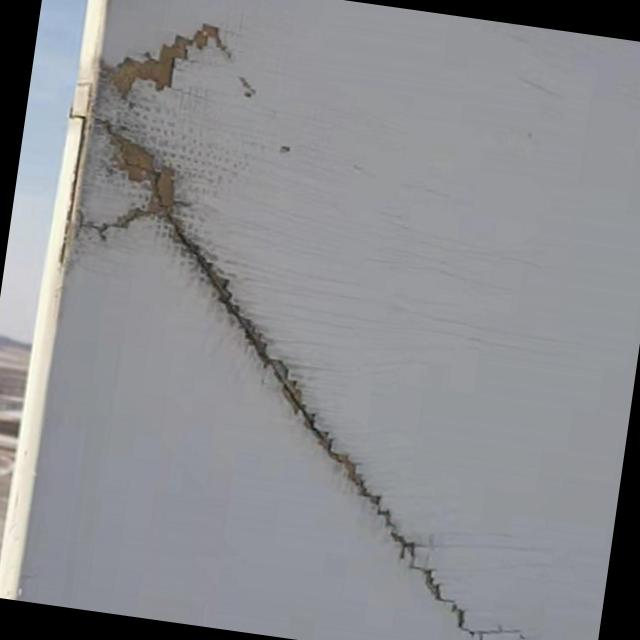crack: (114, 215, 533, 640)
surface_peeling: (104, 8, 229, 118), (82, 118, 180, 210)
